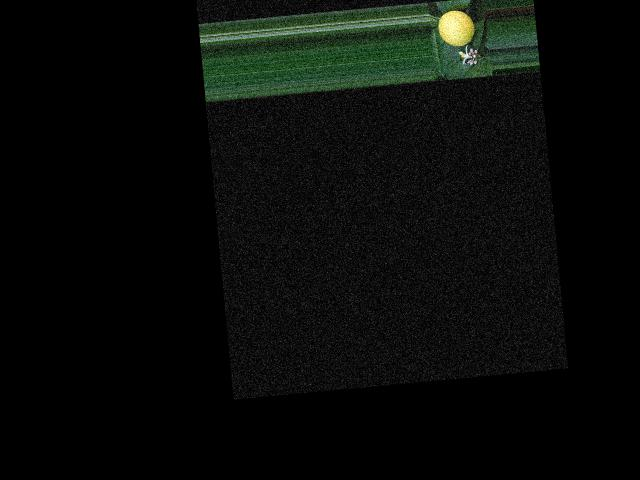lemon: (435, 6, 475, 48)
